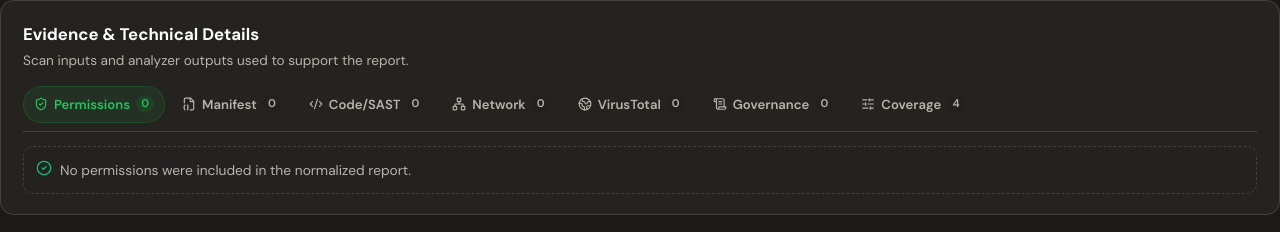
Test: EvidenceTechnicalDetails › renders a safe empty state when data is missing
Expected: the text "No permissions were included in the normalized report." is shown, [60, 159, 411, 181]
Click the tab "Manifest 0".
click(231, 104)  # box [171, 86, 292, 123]
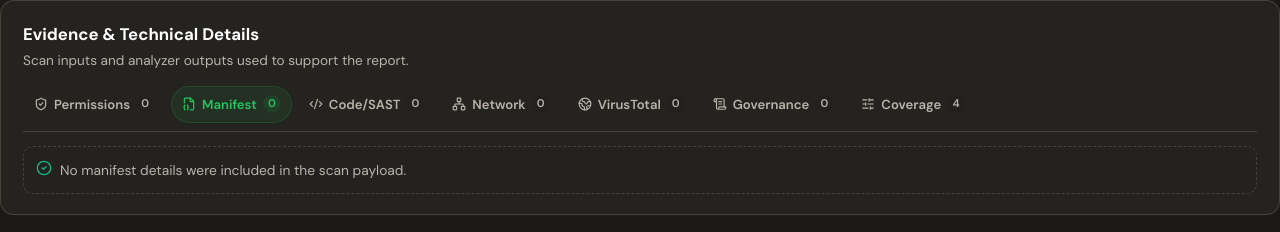
Result: the text "No manifest details were included in the scan payload." is shown at [60, 159, 406, 181]
